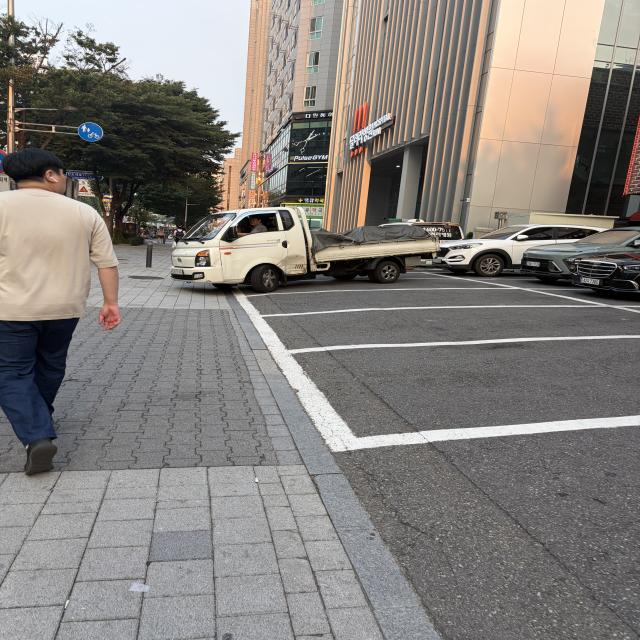car: (150, 189, 458, 305), (416, 215, 630, 285), (516, 223, 640, 286)
